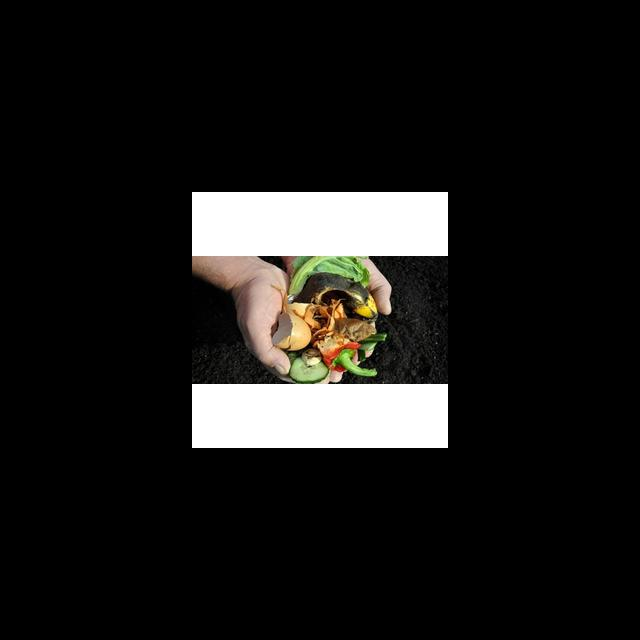food_waste: (287, 257, 376, 380)
